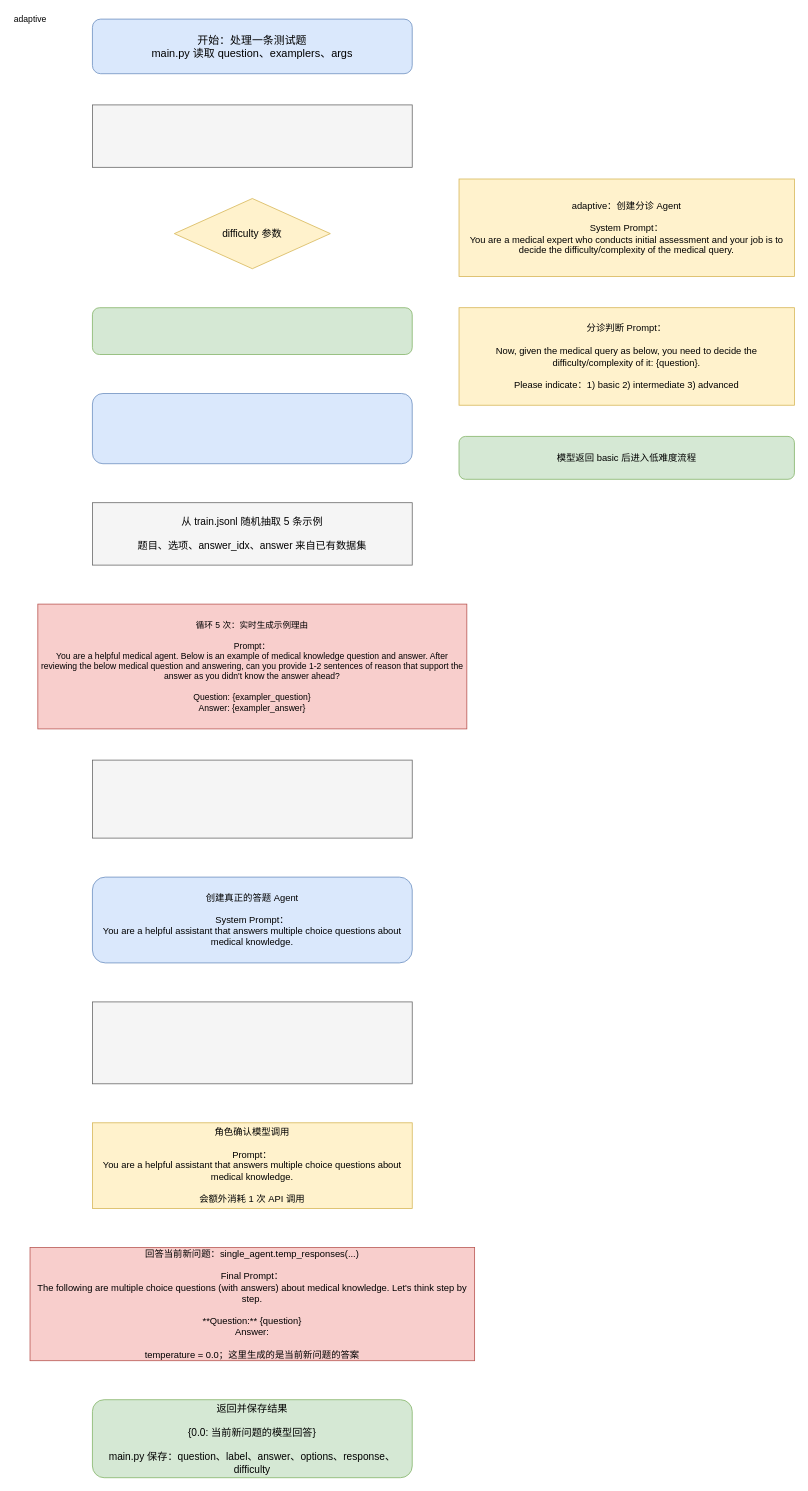
The diagram is 808 pixels wide and 1491 high, and some of its shapes have lost their labels. The box of each missing label's shape, as (x1, y1, x2, y2) in pixels:
create_question(sample, dataset) MedQA 拼接题目和选项 选项顺序随机打乱；不调用模型: (92, 104, 412, 167)
保存 new_examplers 每条示例 = 示例题 + 数据集标准答案 + 模型实时生成的理由 得到 5 个 Few-shot 示例: (92, 759, 412, 838)
创建示例理由 Agent System Prompt： You are a helpful medical agent.: (92, 393, 412, 464)
初始化对话历史 user：5 个示例题 assistant：每题的正确答案 + 示例理由 此步骤本身不额外调用模型: (92, 1001, 412, 1084)
进入低难度 basic 流程: (92, 307, 412, 355)
